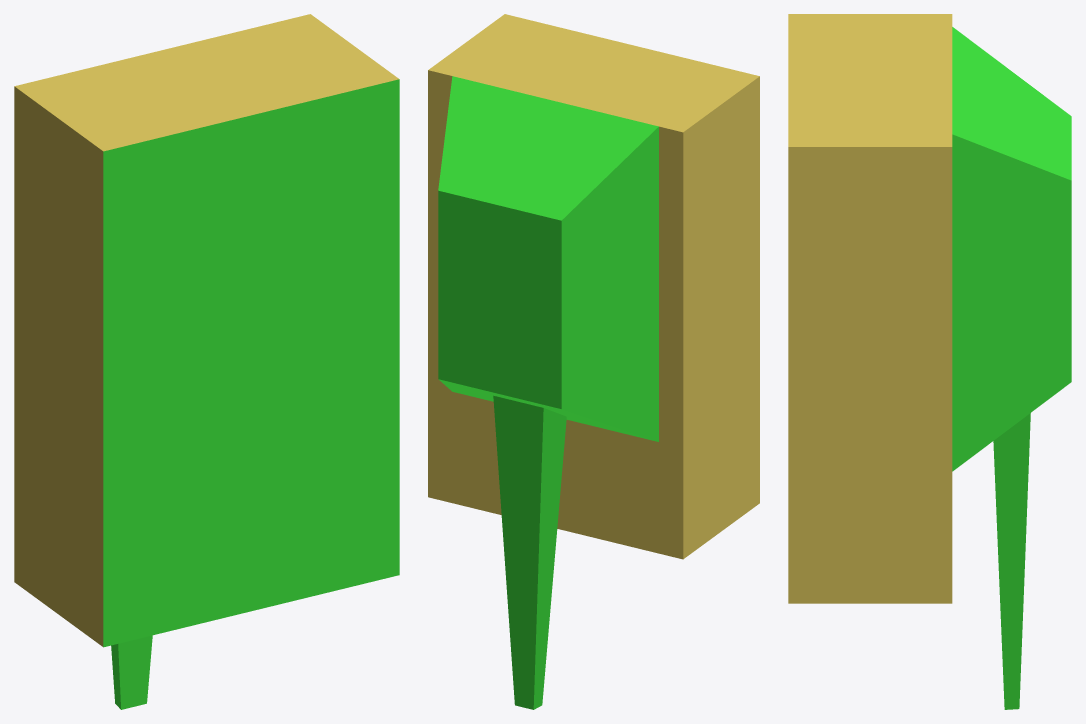
File: tankPrototype.fbx
The picture shows the model from 3 angles, left to right: view 1: azimuth 30°, elevation 25°; view 2: azimuth 150°, elevation 25°; view 3: azimuth 270°, elevation 25°; orthographic projection. The views are drawn at different scales.
Parts seen in each view (by area): view 1: Cube; view 2: Cube; view 3: Cube.
Boxes of the visible parts, x1,y1,x2,y2 form: Cube: (14,14,399,709); Cube: (428,14,759,709); Cube: (788,14,1071,709).
Size of the model in its own units: 250 by 546 by 225.
